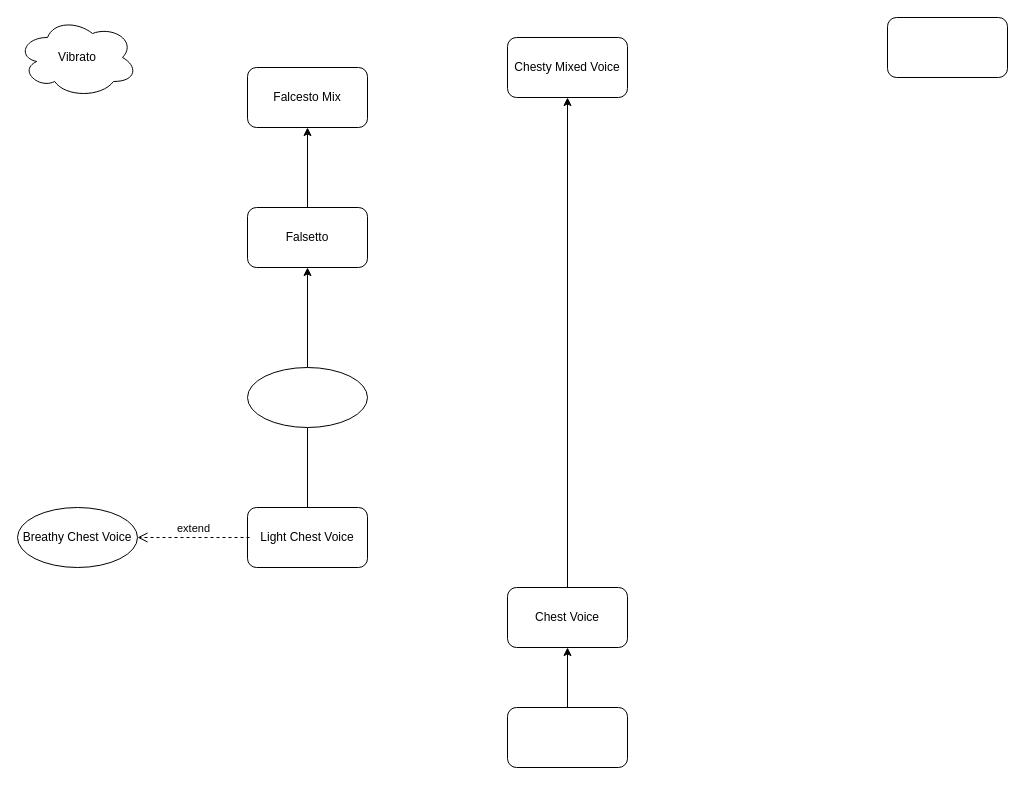
Some shapes in this 1025 by 785 pixel diagram are drawn without their labels. Here are the shapes that lost their labels. From the top down, the centre of each, then its label:
At point 947,47: "Head Voice".
At point 307,397: "Blend".
At point 567,737: "Vocal Fry".
